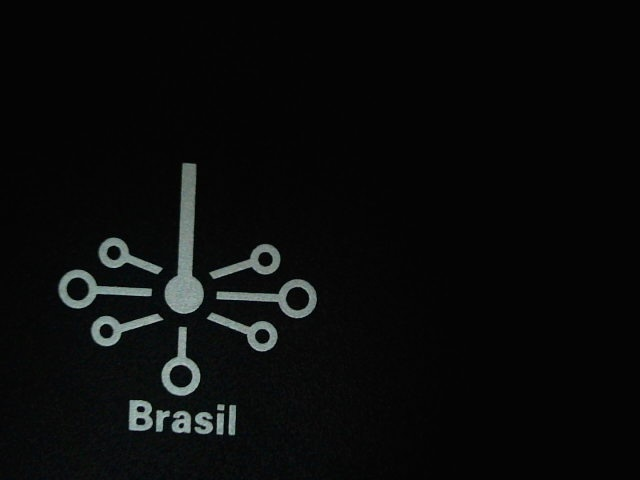BG_Brasil: (45, 142, 345, 444)
